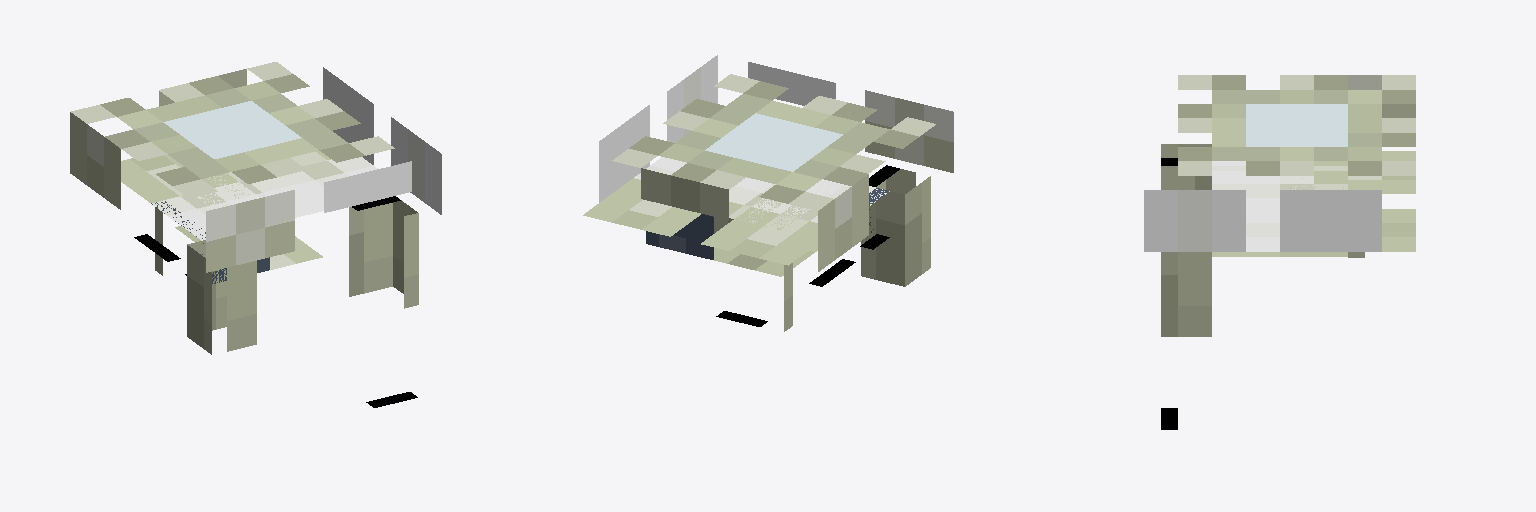
The picture shows the model from 3 angles: view 1: azimuth 30°, elevation 25°; view 2: azimuth 150°, elevation 25°; view 3: azimuth 270°, elevation 25°; orthographic projection.
Parts seen in each view (by area): view 1: cube; view 2: cube; view 3: cube.
Part boxes in pixels (left/top/right/bottom): cube: left=70, top=62, right=441, bottom=407; cube: left=583, top=55, right=953, bottom=331; cube: left=1144, top=75, right=1415, bottom=429.
Bounding box in the file's own units: 1 × 1 × 1.
Materials: 1 (1 with a texture image).